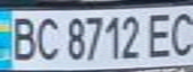1: (103, 12, 124, 61)
2: (121, 11, 145, 61)
7: (81, 12, 106, 61)
8: (63, 14, 87, 61)
B: (6, 12, 39, 62)
C: (33, 14, 63, 62), (166, 8, 193, 57)
E: (145, 9, 178, 58)
